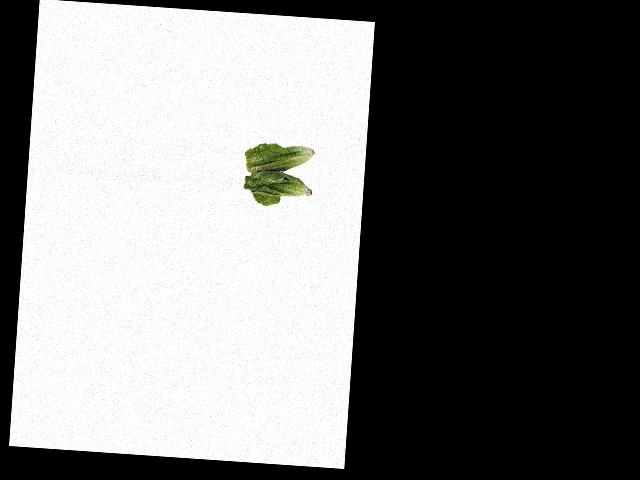lettuce: (242, 138, 316, 202)
